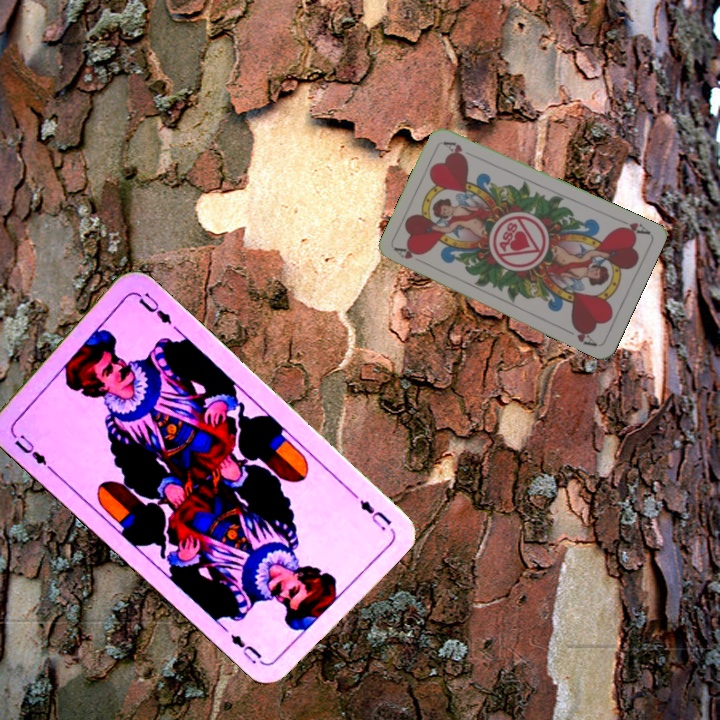EU: (7, 427, 54, 473), (355, 495, 394, 534)
HA: (392, 243, 430, 268), (613, 214, 652, 238)
